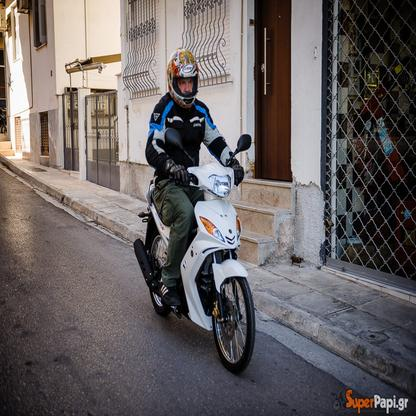target: (131, 47, 261, 376)
